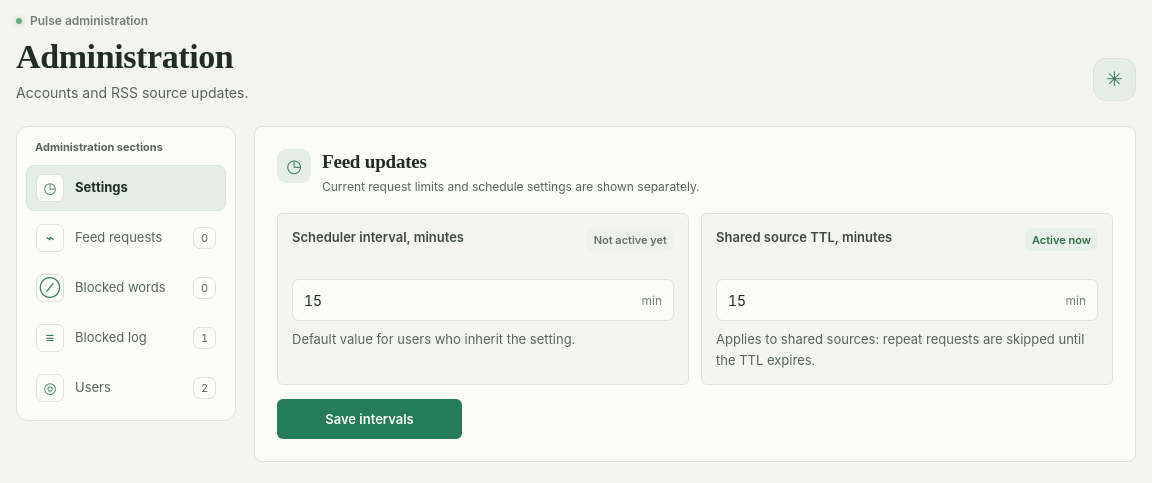
Test: AdminPanel › keeps a successful decision when refreshing the queue fails
Click the button "≡ Blocked log 1".
click(126, 338)  # box left=26, top=315, right=226, bottom=361
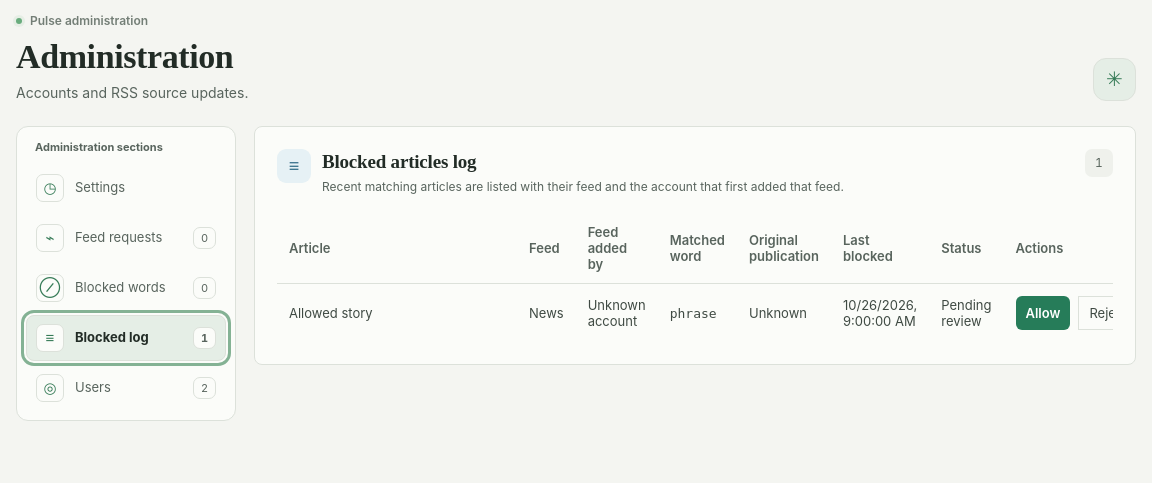
Click the button "Allow".
click(1043, 314)  # box left=1016, top=296, right=1070, bottom=330
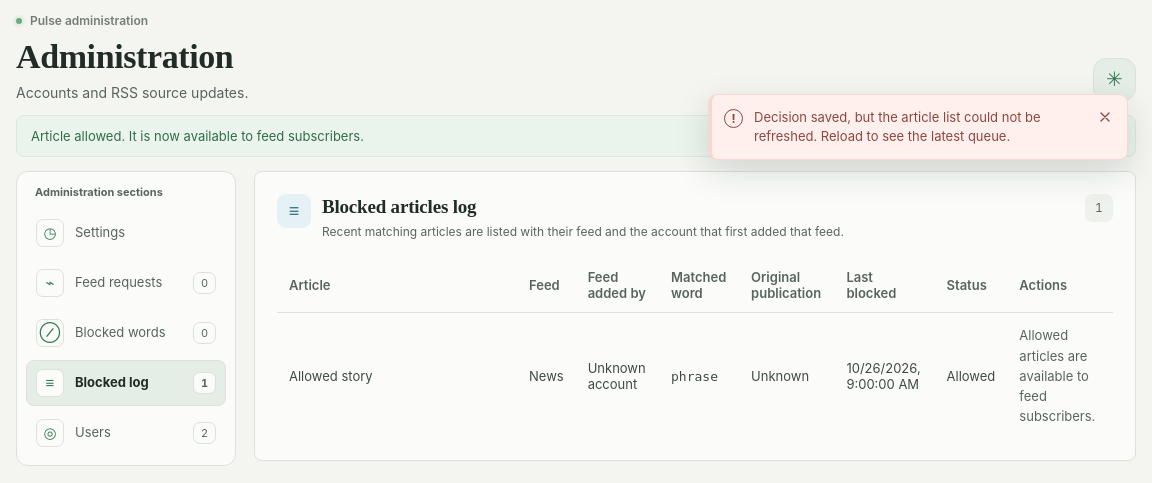
Expected: the text "Article allowed. It is now available to feed subscribers." is shown, left=16, top=115, right=1136, bottom=157
Expected: the text "Allowed" is shown, left=934, top=313, right=1007, bottom=438
